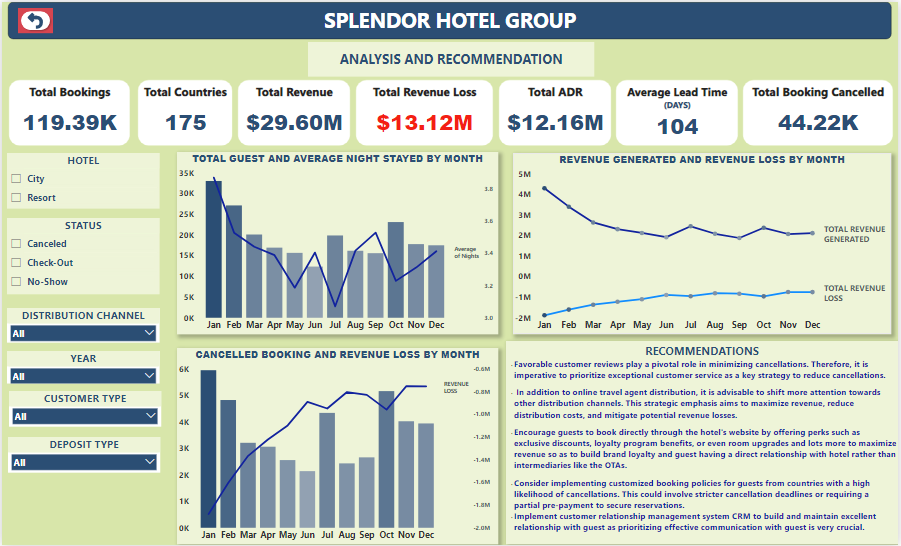

The dashboard page shown, as its layout file describes it:
{"tool":"powerbi","page":{"name":"ANALYSIS AND RECOMENDATION","canvas":[2560,1550],"ordinal":2},"visuals":[{"type":"textbox","box":[18.2,0,2523.5,105.9],"z":0},{"type":"card","title":"Total Bookings","fields":{"Values":["CountNonNull(Data.Customer Type)"]},"box":[21.2,222.4,345.5,186.9],"z":1000},{"type":"card","title":"Total Countries","fields":{"Values":["Count(Data.Country)"]},"box":[389.4,222.4,269,186.9],"z":2000},{"type":"card","title":"Total Revenue","fields":{"Values":["Sum(Data.Revenue)"]},"box":[675.4,222.4,320,186.9],"z":3000},{"type":"card","title":"Total ADR","fields":{"Values":["Sum(Data.Avg Daily Rate)"]},"box":[1420.2,222.4,320,186.9],"z":4000},{"type":"card","title":"Average Lead Time","fields":{"Values":["Avg(Data.Lead Time)"]},"box":[1754.3,222.4,348.3,186.9],"z":5000},{"type":"card","title":"Total Booking Cancelled","fields":{"Values":["Data.cancelled booking"]},"box":[2116.8,222.4,427.6,186.9],"z":6000},{"type":"card","title":"Total Revenue Loss","fields":{"Values":["Data.TRL"]},"box":[1012.4,222.4,390.8,186.9],"z":7000},{"type":"slicer","title":"YEAR","fields":{"Values":["Calendar.Year"]},"box":[15.5,998.3,436.1,93.5],"z":8000},{"type":"slicer","title":"HOTEL","fields":{"Values":["Data.Hotel"]},"box":[15.5,431.9,436.1,158.6],"z":9000},{"type":"slicer","title":"STATUS","fields":{"Values":["Data.Status"]},"box":[15.5,616,436.1,218.1],"z":10000},{"type":"slicer","title":"DISTRIBUTION CHANNEL","fields":{"Values":["Data.Distribution Channel"]},"box":[15.5,873.7,436.1,99.1],"z":11000},{"type":"textbox","box":[875.4,112.9,817.5,99.1],"z":12000},{"type":"slicer","title":"CUSTOMER TYPE","fields":{"Values":["Data.Customer Type"]},"box":[19.3,1112.1,434.9,101.8],"z":13000},{"type":"slicer","title":"DEPOSIT  TYPE","fields":{"Values":["Data.Deposit Type"]},"box":[16.5,1244.2,434.9,101.8],"z":14000},{"type":"actionButton","box":[45.8,17.2,100.1,71.5],"z":15000},{"type":"lineStackedColumnComboChart","title":"TOTAL GUEST AND AVERAGE NIGHT STAYED BY MONTH","fields":{"Y":["Sum(Data.Guests)"],"Category":["Calendar.Month"],"Y2":["Avg(Data.Nights)"]},"box":[500.6,429.1,918.2,520.6],"z":16000},{"type":"lineChart","title":"REVENUE GENERATED AND REVENUE LOSS BY MONTH","fields":{"Category":["Calendar.Month"],"Y":["Data.REVENUE LOSS22","Sum(Data.Revenue)"]},"box":[1458.8,431.9,1081.2,517.7],"z":17000},{"type":"lineStackedColumnComboChart","title":"CANCELLED BOOKING AND REVENUE LOSS BY MONTH","fields":{"Category":["Calendar.Month"],"Y":["Data.cancelled booking"],"Y2":["Data.REVENUE LOSS22"]},"box":[500.6,989.7,918.2,560.6],"z":18000},{"type":"textbox","box":[1438.7,969.7,1121.3,580.6],"z":19000},{"type":"textbox","box":[17,1346,435,204],"z":19001}]}

Visuals, with their boxes in screenshot pixels (x1, y1, x2, y2), scaled from the page's 2560x1550 canvas onto the 901x546 screenshot:
textbox: rect(6, 0, 895, 37)
"Total Bookings" card: rect(7, 78, 129, 144)
"Total Countries" card: rect(137, 78, 232, 144)
"Total Revenue" card: rect(238, 78, 350, 144)
"Total ADR" card: rect(500, 78, 612, 144)
"Average Lead Time" card: rect(617, 78, 740, 144)
"Total Booking Cancelled" card: rect(745, 78, 896, 144)
"Total Revenue Loss" card: rect(356, 78, 494, 144)
"YEAR" slicer: rect(5, 352, 159, 385)
"HOTEL" slicer: rect(5, 152, 159, 208)
"STATUS" slicer: rect(5, 217, 159, 294)
"DISTRIBUTION CHANNEL" slicer: rect(5, 308, 159, 343)
textbox: rect(308, 40, 596, 75)
"CUSTOMER TYPE" slicer: rect(7, 392, 160, 428)
"DEPOSIT  TYPE" slicer: rect(6, 438, 159, 474)
actionButton: rect(16, 6, 51, 31)
"TOTAL GUEST AND AVERAGE NIGHT STAYED BY MONTH" lineStackedColumnComboChart: rect(176, 151, 499, 335)
"REVENUE GENERATED AND REVENUE LOSS BY MONTH" lineChart: rect(513, 152, 894, 335)
"CANCELLED BOOKING AND REVENUE LOSS BY MONTH" lineStackedColumnComboChart: rect(176, 349, 499, 545)
textbox: rect(506, 342, 900, 545)
textbox: rect(6, 474, 159, 545)
